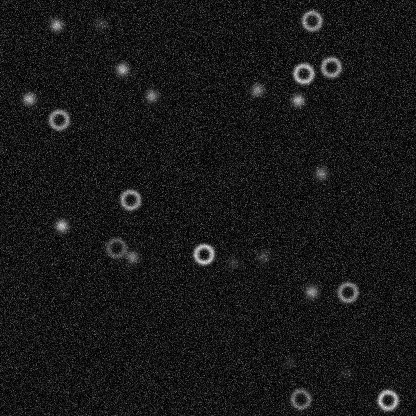Ring: (191, 242, 215, 266), (288, 386, 312, 410), (318, 54, 342, 78), (291, 61, 315, 85), (335, 280, 359, 304), (299, 8, 323, 32), (46, 107, 70, 131), (118, 187, 142, 211), (375, 387, 399, 411), (104, 235, 128, 259)
Spot: (248, 81, 264, 97), (289, 92, 305, 108), (92, 15, 108, 31), (143, 87, 159, 103), (53, 217, 69, 233), (281, 354, 297, 370), (336, 365, 352, 381), (21, 90, 37, 106), (48, 17, 64, 33), (224, 254, 240, 270), (303, 283, 319, 299), (254, 248, 270, 264), (124, 248, 140, 264), (312, 165, 328, 181), (113, 61, 129, 77)
